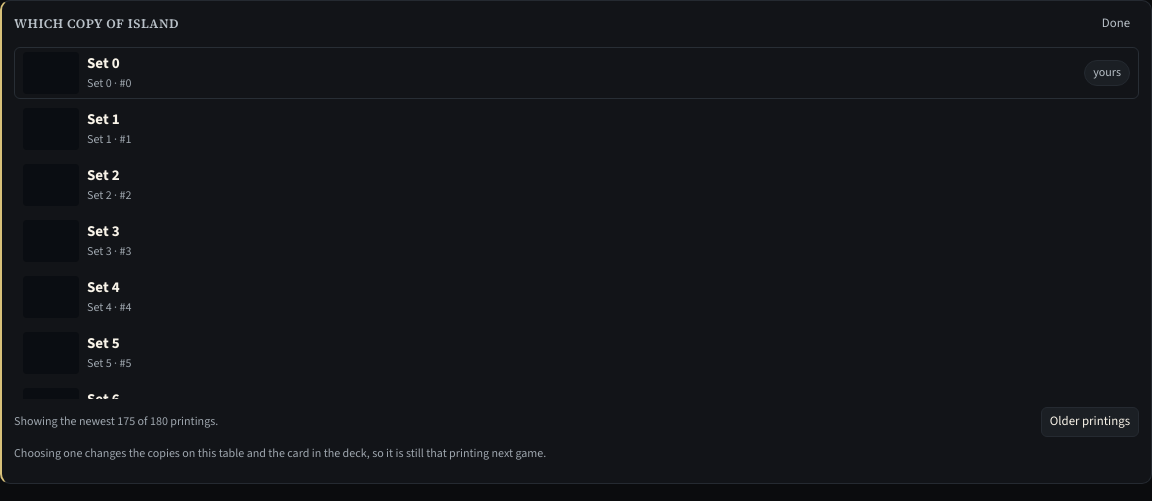
Test: the printings picker › says how many of Scryfall's it shows, fetches the next page only when pressed, and moves focus to it
Expected: the text "Showing the newest 175 of 180 printings." is shown, [14,413,218,430]
Click the button "Older printings": point(1090, 422) [1041,407,1139,437]
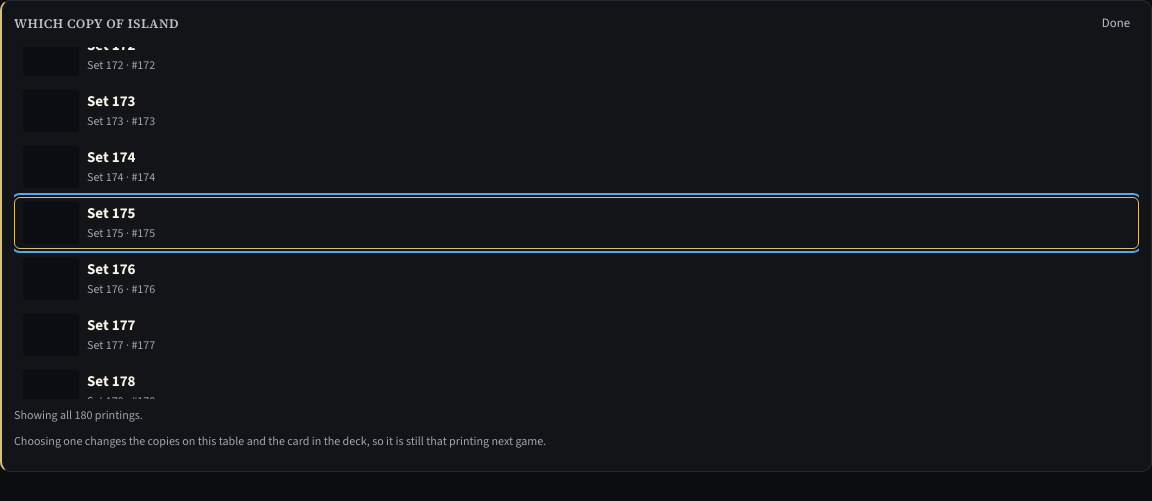
Result: the text "Showing all 180 printings." is shown at [14,407,143,424]
Result: the button "Set 175 Set 175 · #175" is shown at [14,197,1139,249]
